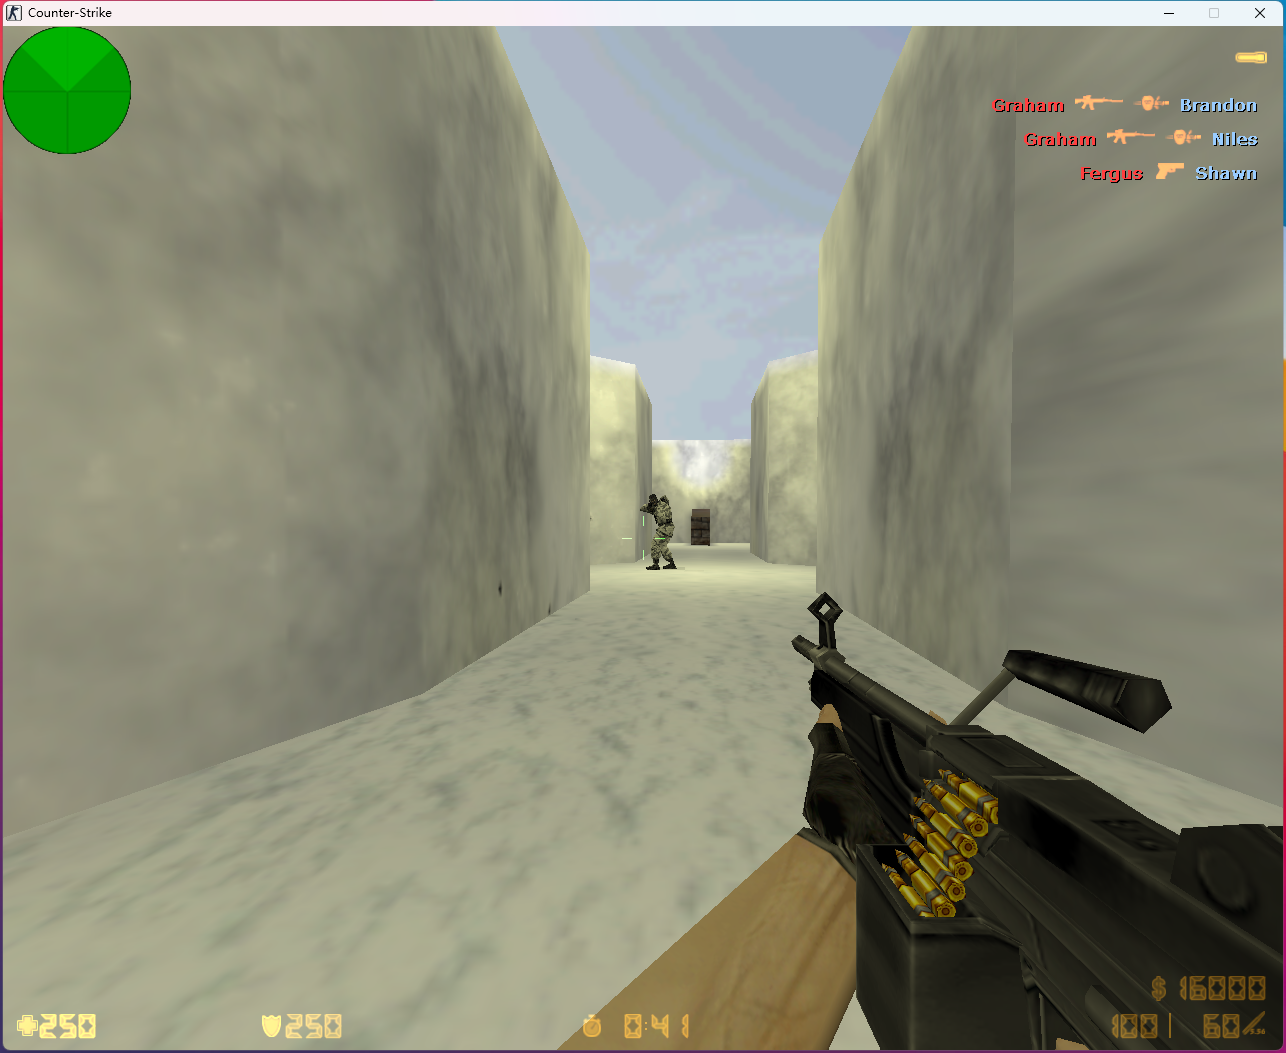T: (641, 491, 678, 573)
